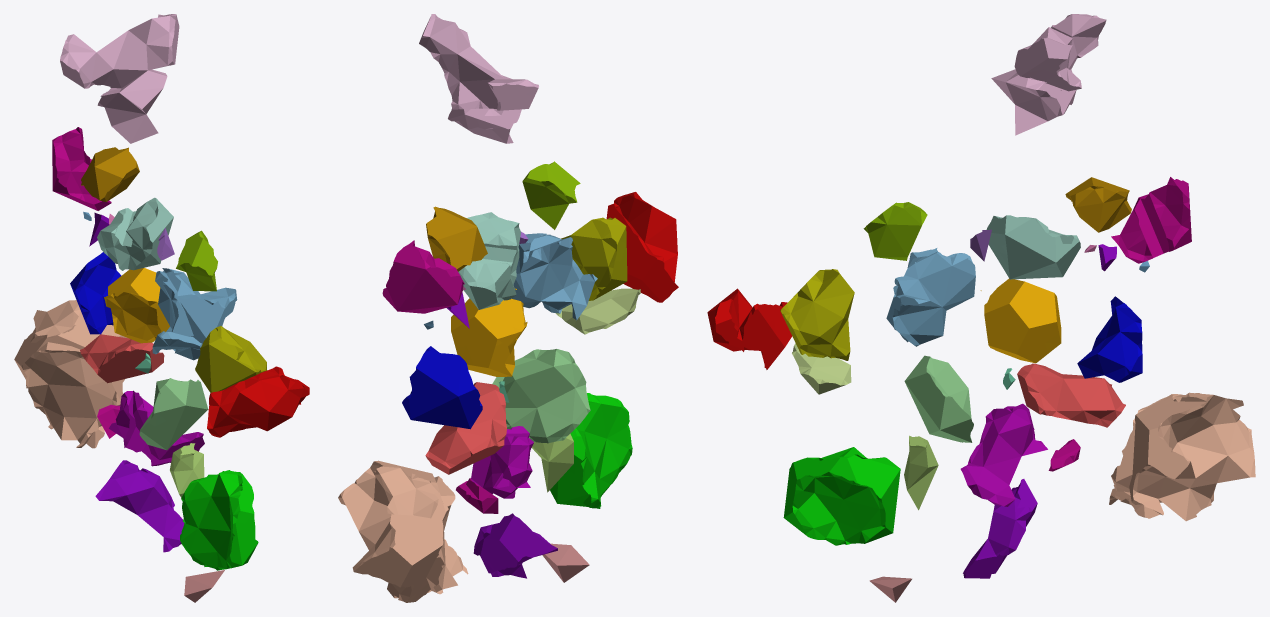
Rendered from fractured_45_30pcs_transformed.glb.
The picture shows the model from 3 angles, left to right: view 1: azimuth 30°, elevation 25°; view 2: azimuth 150°, elevation 25°; view 3: azimuth 270°, elevation 25°; orthographic projection. The views are drawn at different scales.
Parts seen in each view (by area): view 1: piece_7.obj, piece_6.obj, piece_8.obj, piece_9.obj, piece_2.obj, piece_16.obj, piece_4.obj, piece_0.obj, piece_3.obj, piece_11.obj, piece_1.obj, piece_15.obj (+7 smaller); view 2: piece_7.obj, piece_6.obj, piece_3.obj, piece_8.obj, piece_9.obj, piece_2.obj, piece_10.obj, piece_0.obj, piece_15.obj, piece_4.obj, piece_1.obj, piece_11.obj (+8 smaller); view 3: piece_7.obj, piece_8.obj, piece_6.obj, piece_2.obj, piece_0.obj, piece_12.obj, piece_11.obj, piece_1.obj, piece_4.obj, piece_15.obj, piece_3.obj, piece_9.obj (+6 smaller).
Part boxes in pixels (<box>): piece_7.obj: <box>14,300,126,448</box>; piece_6.obj: <box>60,14,179,143</box>; piece_8.obj: <box>180,470,258,570</box>; piece_9.obj: <box>207,366,309,437</box>; piece_2.obj: <box>152,268,237,360</box>; piece_16.obj: <box>95,460,184,552</box>; piece_4.obj: <box>97,197,173,270</box>; piece_0.obj: <box>104,268,169,343</box>; piece_3.obj: <box>139,378,208,450</box>; piece_11.obj: <box>195,326,267,392</box>; piece_1.obj: <box>80,334,164,383</box>; piece_15.obj: <box>52,127,111,210</box>; piece_7.obj: <box>338,460,468,602</box>; piece_6.obj: <box>419,14,538,143</box>; piece_3.obj: <box>492,349,590,443</box>; piece_8.obj: <box>550,393,632,508</box>; piece_9.obj: <box>606,192,678,302</box>; piece_2.obj: <box>512,233,597,320</box>; piece_10.obj: <box>402,346,482,429</box>; piece_0.obj: <box>451,298,527,376</box>; piece_15.obj: <box>382,240,464,313</box>; piece_4.obj: <box>458,212,520,309</box>; piece_1.obj: <box>425,382,506,474</box>; piece_11.obj: <box>561,217,627,300</box>; piece_7.obj: <box>1109,392,1255,521</box>; piece_8.obj: <box>783,447,900,545</box>; piece_6.obj: <box>991,14,1106,135</box>; piece_2.obj: <box>886,248,975,346</box>; piece_0.obj: <box>984,278,1061,363</box>; piece_12.obj: <box>960,403,1047,506</box>; piece_11.obj: <box>780,269,854,360</box>; piece_1.obj: <box>1017,363,1125,427</box>; piece_4.obj: <box>986,215,1080,279</box>; piece_15.obj: <box>1111,177,1191,263</box>; piece_3.obj: <box>904,355,973,442</box>; piece_9.obj: <box>707,288,791,369</box>.
Bounding box in the file's own units: 0.4951 × 2.02 × 1.7.
